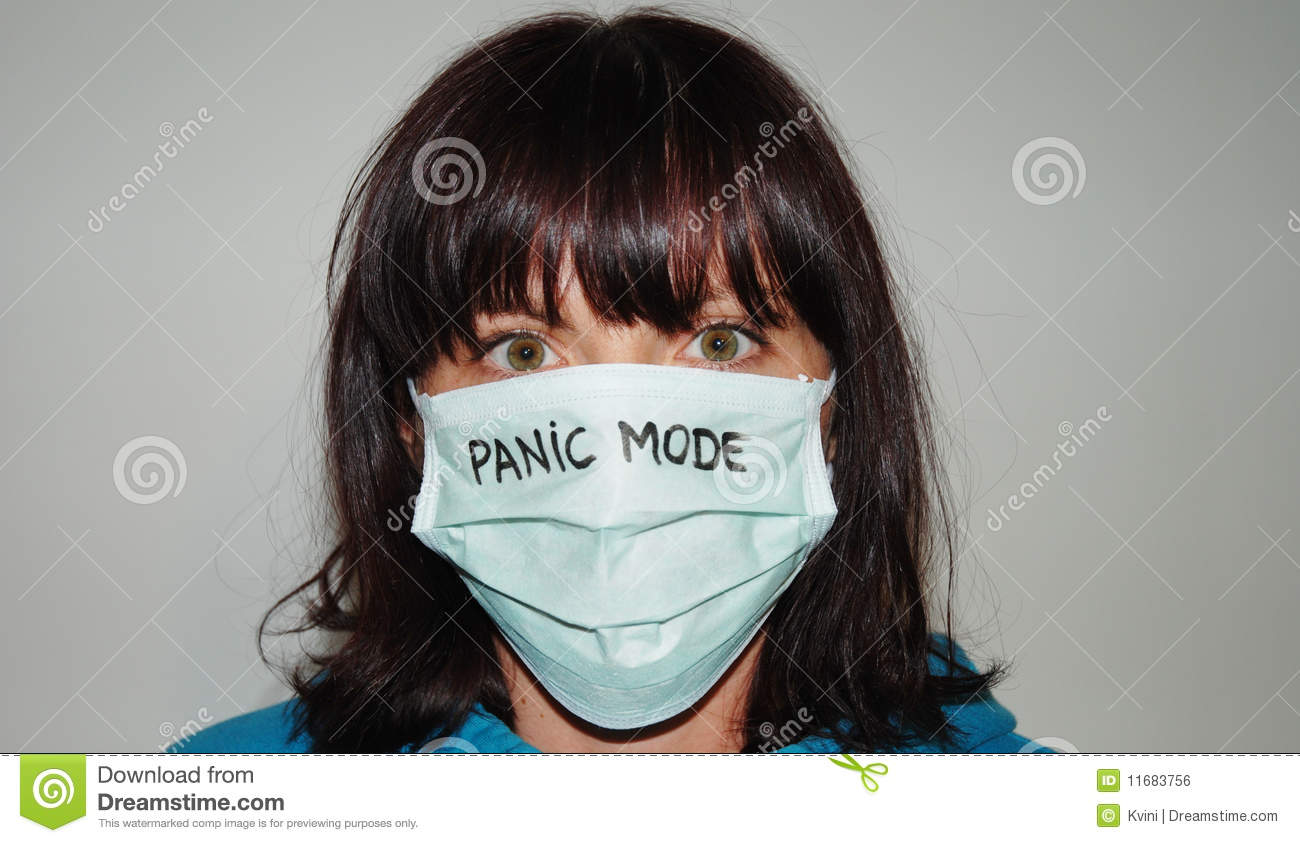mask: (415, 370, 836, 734)
